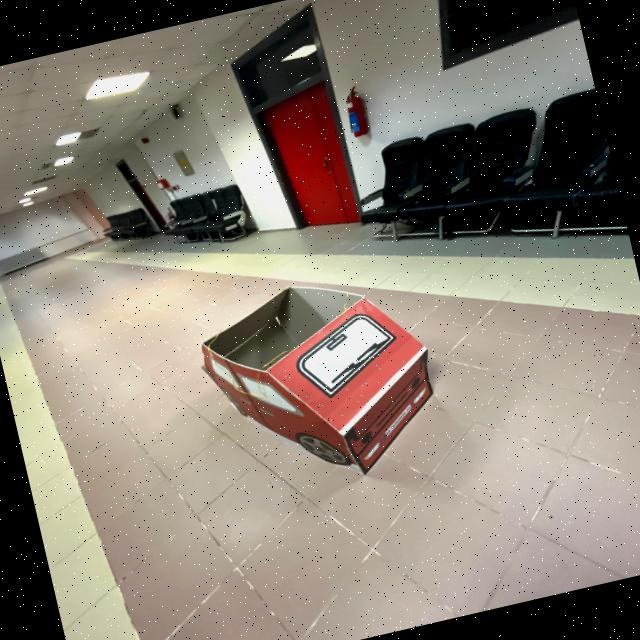red_car: (176, 249, 469, 516)
